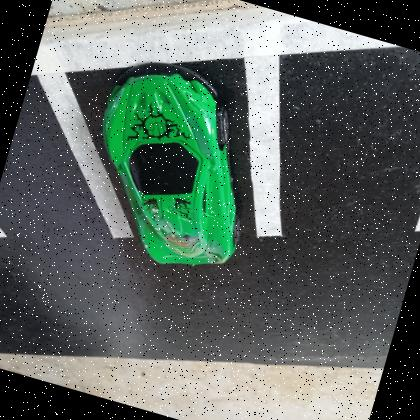Car: (100, 69, 236, 265)
